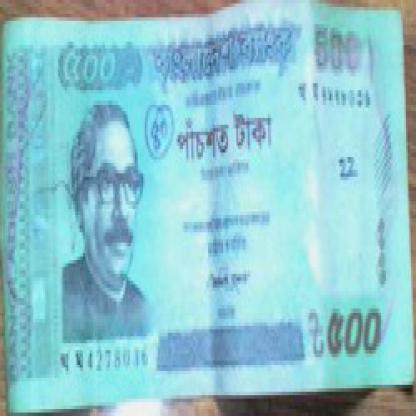500 taka: (50, 38, 133, 104), (318, 305, 393, 378)
currency: (0, 10, 415, 415)
